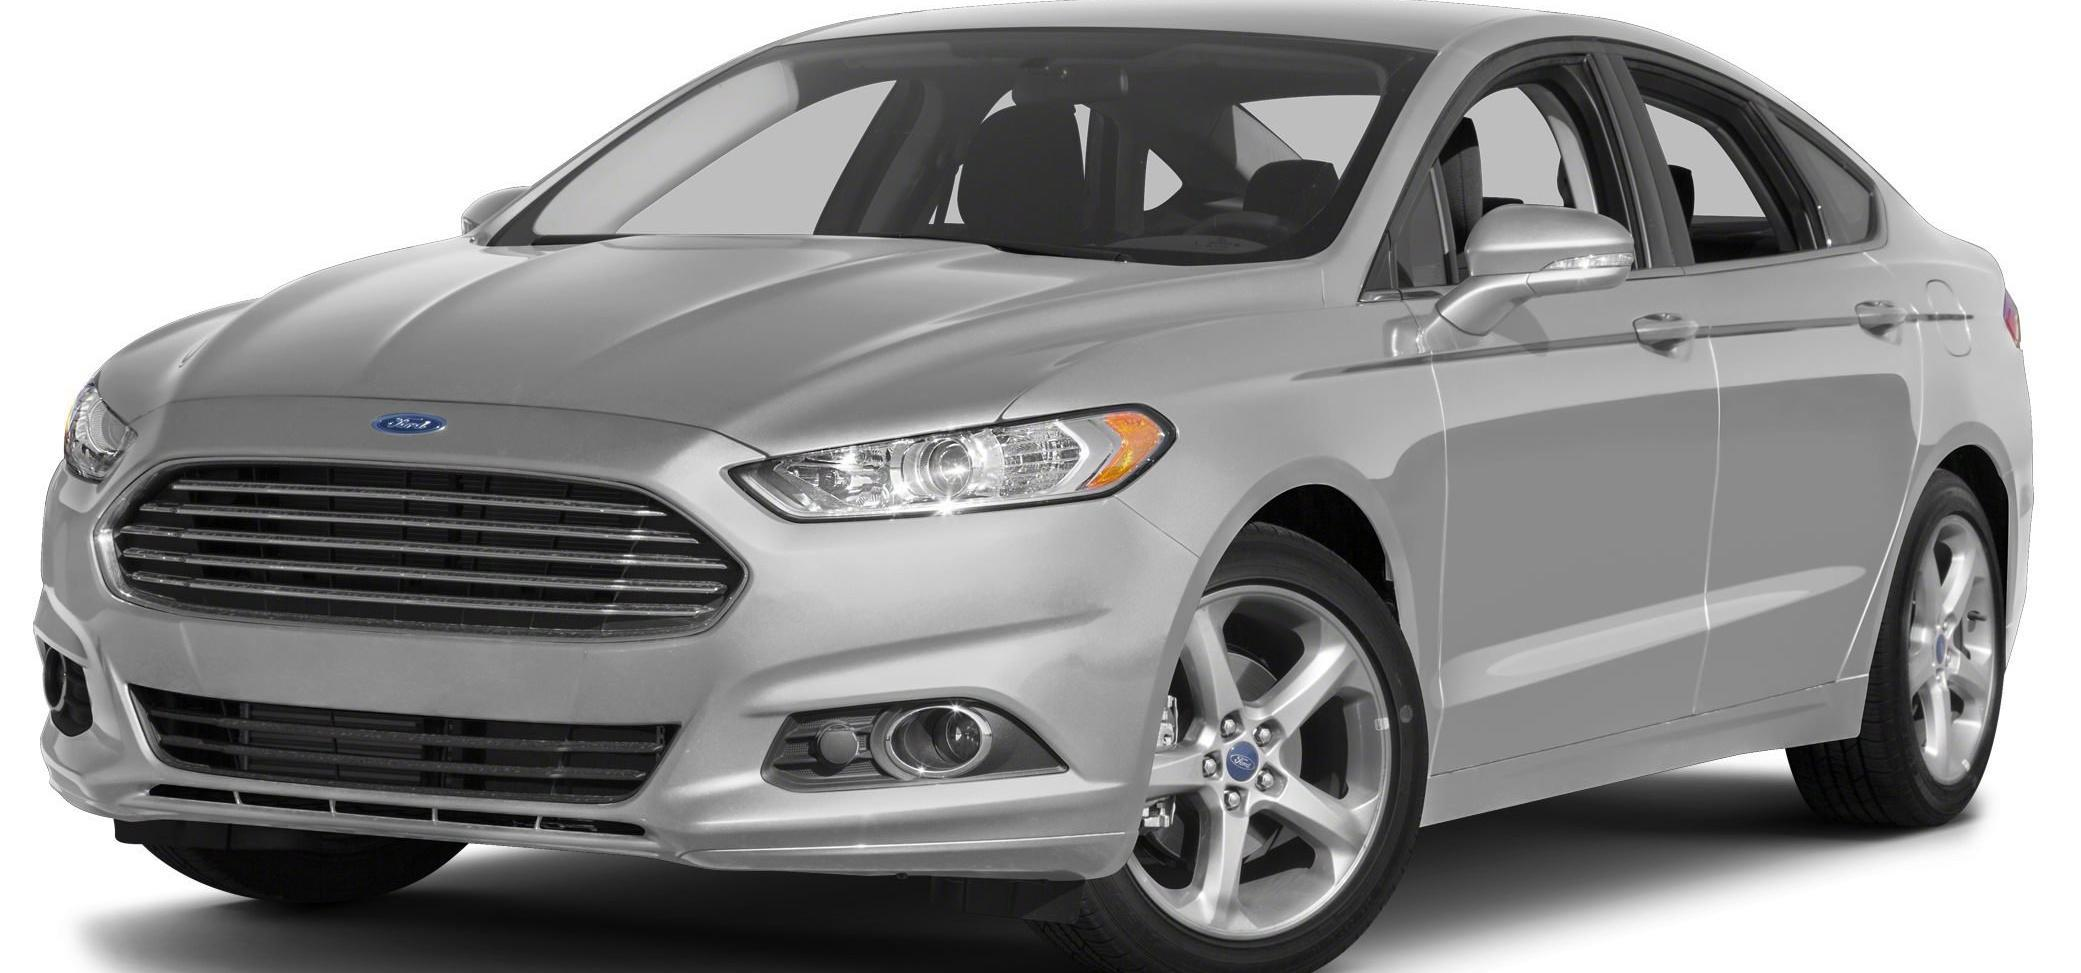Cars: (38, 9, 2033, 972)
